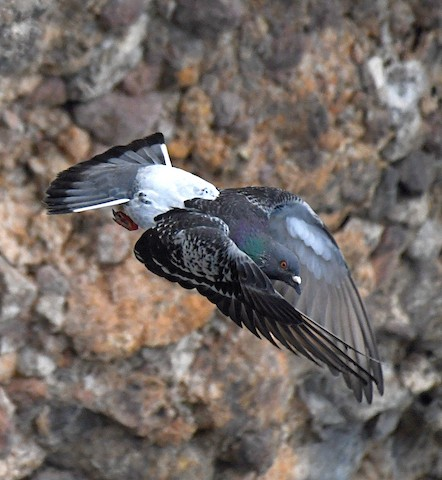pigeon: (40, 121, 386, 402)
